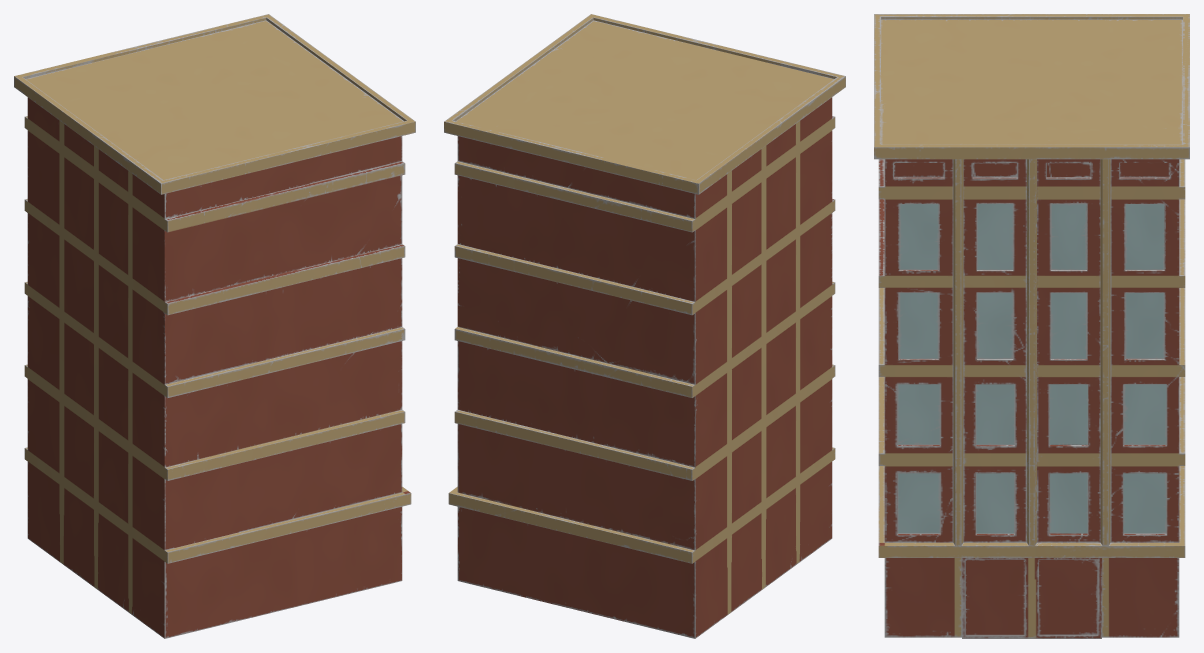
The model's file is House_1.fbx.
3 renders of one model, left to right at view 1: azimuth 30°, elevation 25°; view 2: azimuth 150°, elevation 25°; view 3: azimuth 270°, elevation 25°, orthographic. The views are drawn at different scales.
Parts seen in each view (by area): view 1: House.001; view 2: House.001; view 3: House.001.
Boxes of the visible parts, x1,y1,x2,y2 form: House.001: (14,14,415,638); House.001: (444,14,845,638); House.001: (874,14,1189,638).
Bounding box in the file's own units: 214 × 371 × 214.
1 material, 1 textured.
